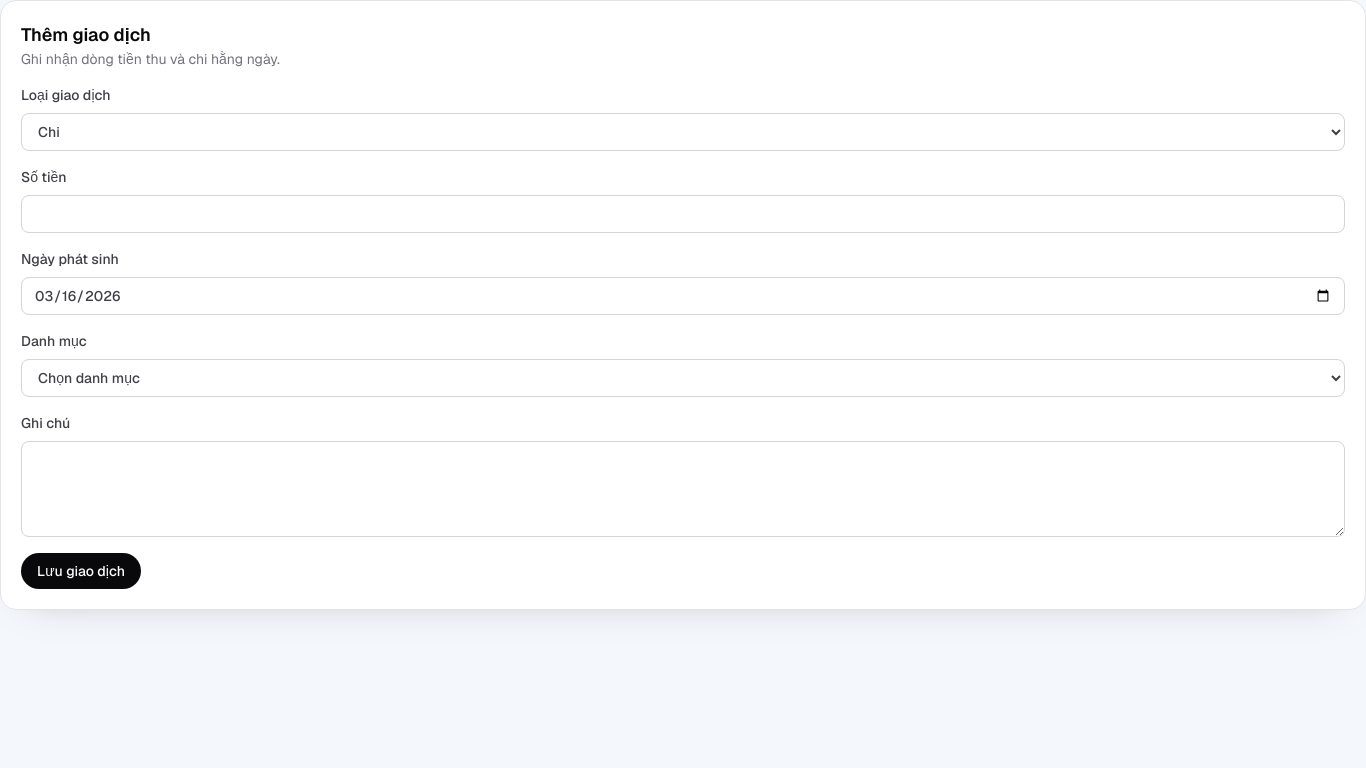
Test: transaction form integration › shows a validation error when amount is invalid
Step 1. Type "0" into the field labelled "Số tiền" → (683, 214), box [21,195,1345,233]
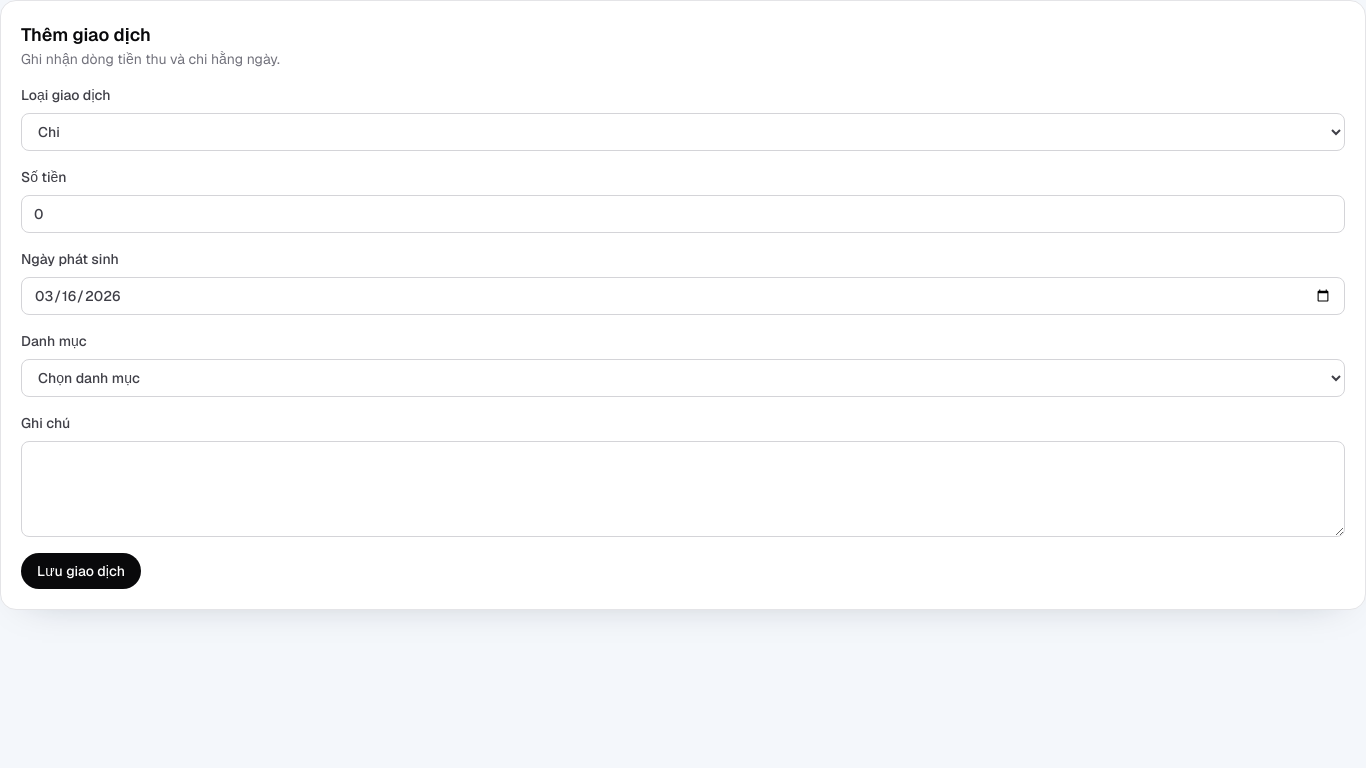
Step 2. Click the button "Lưu giao dịch" → (81, 571), box [21,553,141,589]
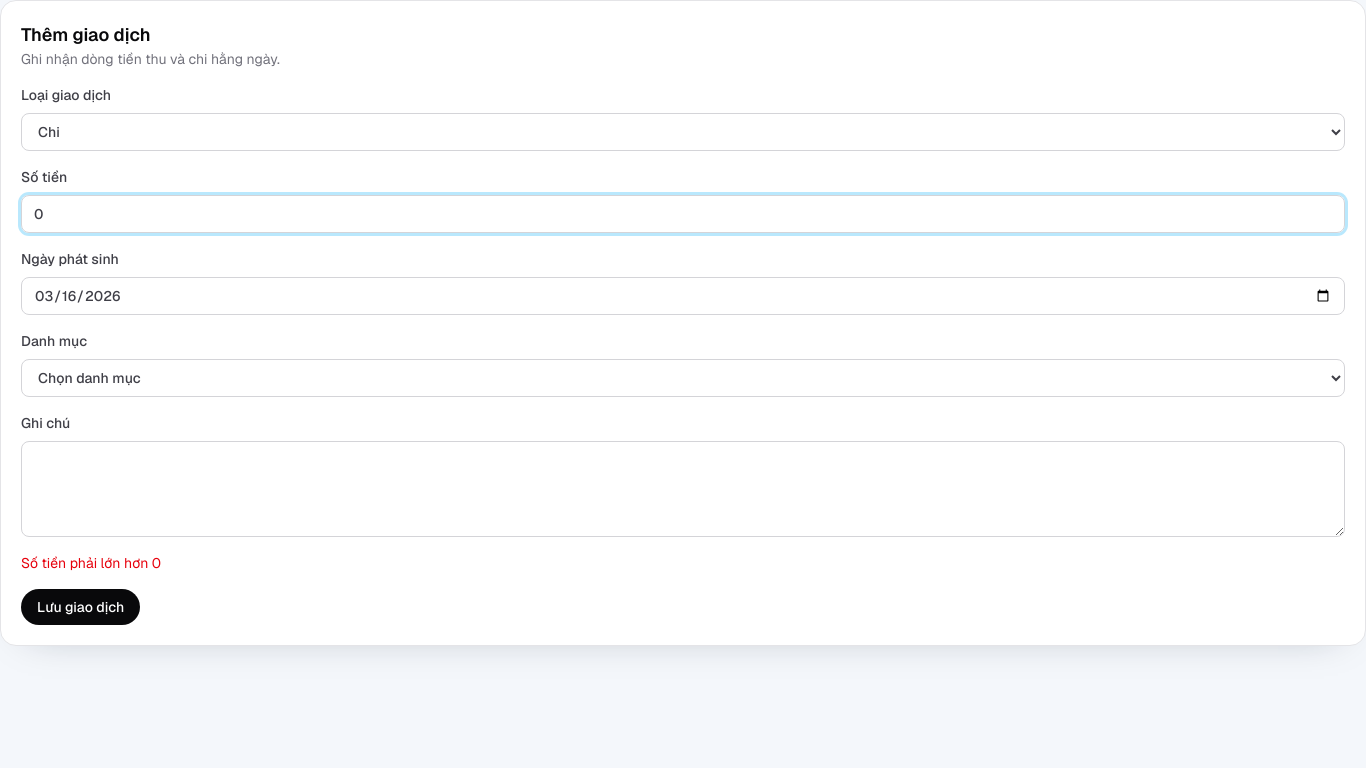
Expected: the text "Số tiền phải lớn hơn 0" is shown, [21,554,161,572]
